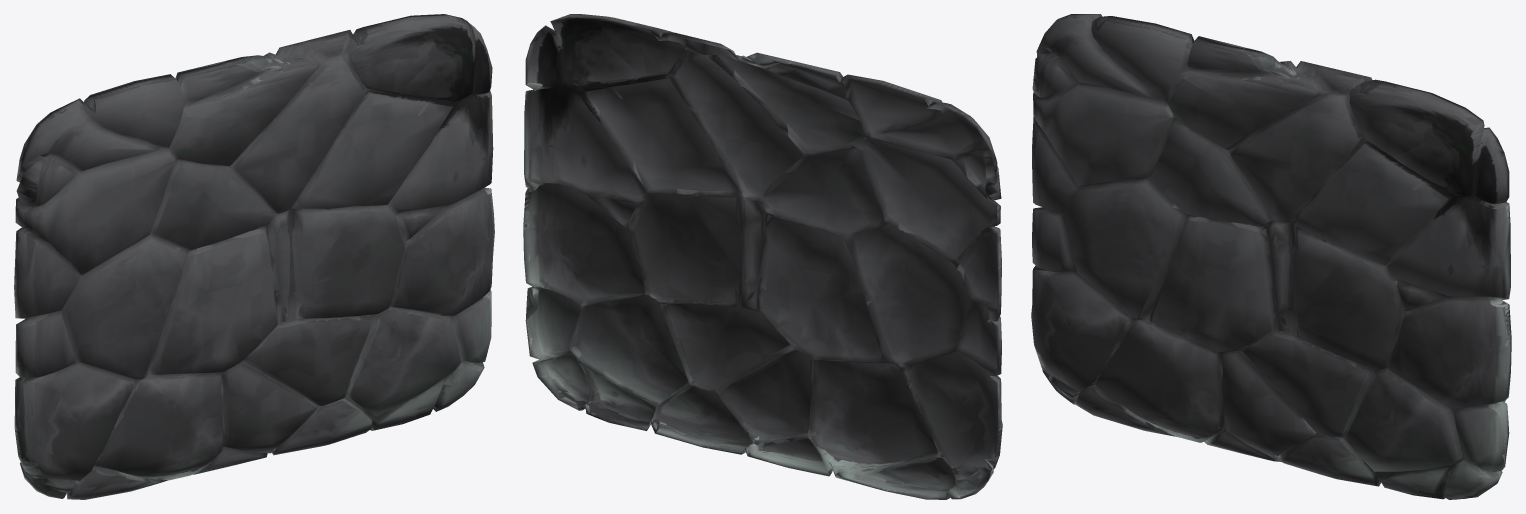
Rendered from rockWall_mesh.fbx.
3 views of the same model, side by side, from view 1: azimuth 30°, elevation 25°; view 2: azimuth 150°, elevation 25°; view 3: azimuth 330°, elevation 25° (orthographic).
Parts seen in each view (by area): view 1: wall_midPoly; view 2: wall_midPoly; view 3: wall_midPoly.
Boxes of the visible parts, bbox=[...] form: wall_midPoly: bbox=[14, 14, 494, 499]; wall_midPoly: bbox=[523, 14, 1002, 499]; wall_midPoly: bbox=[1031, 14, 1511, 499].
Bounding box in the file's own units: 2351 × 1917 × 129.
